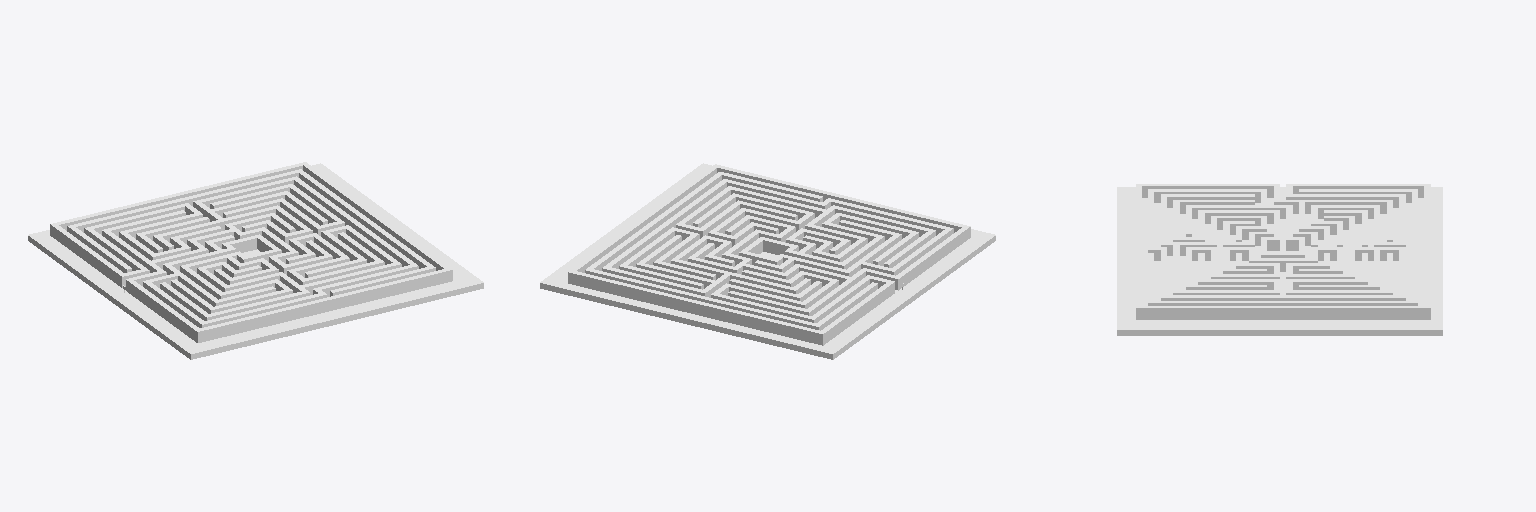
File: laberinto.obj
3 renders of one model, left to right at view 1: azimuth 30°, elevation 25°; view 2: azimuth 150°, elevation 25°; view 3: azimuth 270°, elevation 25°, orthographic.
Parts seen in each view (by area): view 1: chevening-house.schematic__-10_11_-11_to_59_255_57; view 2: chevening-house.schematic__-10_11_-11_to_59_255_57; view 3: chevening-house.schematic__-10_11_-11_to_59_255_57.
Boxes of the visible parts, x1,y1,x2,y2 form: chevening-house.schematic__-10_11_-11_to_59_255_57: [28, 162, 483, 359]; chevening-house.schematic__-10_11_-11_to_59_255_57: [540, 163, 995, 359]; chevening-house.schematic__-10_11_-11_to_59_255_57: [1117, 184, 1442, 335].
Size of the model in its own units: 18 by 1 by 17.33.